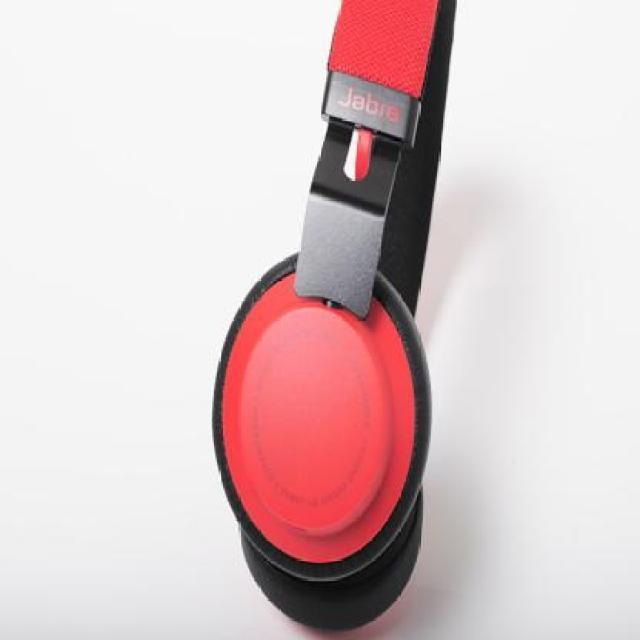earphone: (210, 0, 458, 626)
